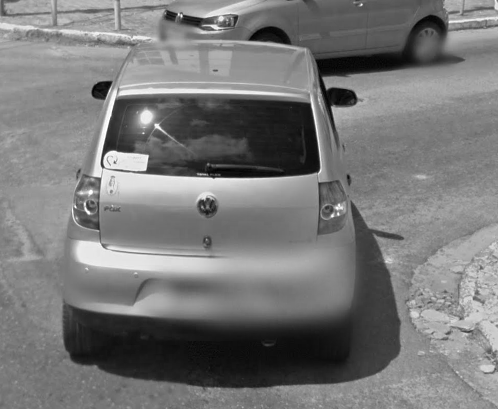car: (58, 32, 366, 368)
